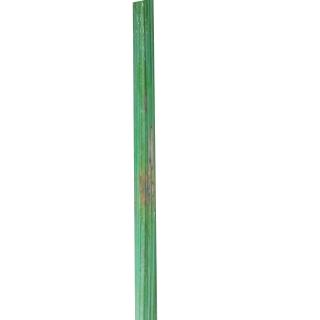Blast: (140, 123, 154, 219), (144, 93, 148, 115)
